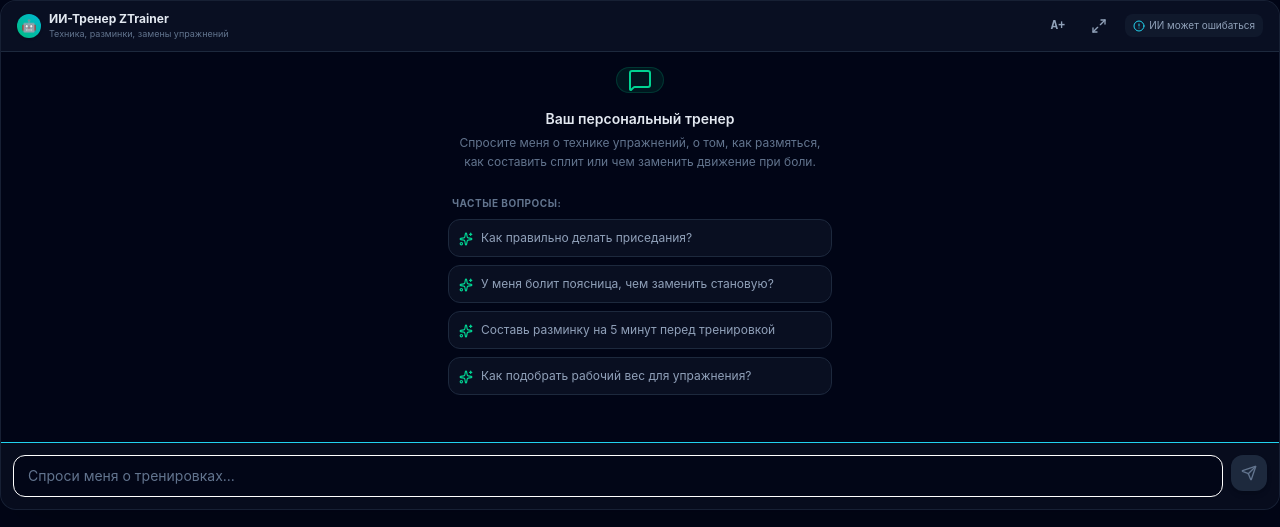
Test: CoachChat Component › shows typing loader while response is loading
This screenshot has width=1280, height=527.
(page scrolled)
Type "Тест загрузки" into the field with placeholder "Спроси меня о тренировках..." at (618, 476), box x1=13 y1=455 x2=1223 y2=497
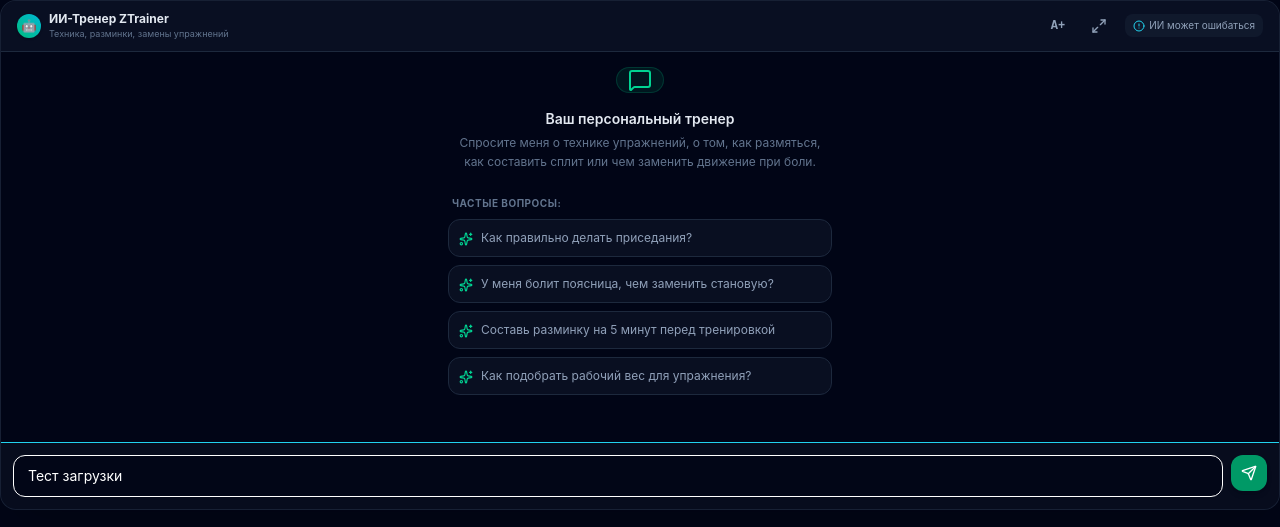
Submit the form with placeholder "Спроси меня о тренировках...", box x1=1 y1=442 x2=1279 y2=509
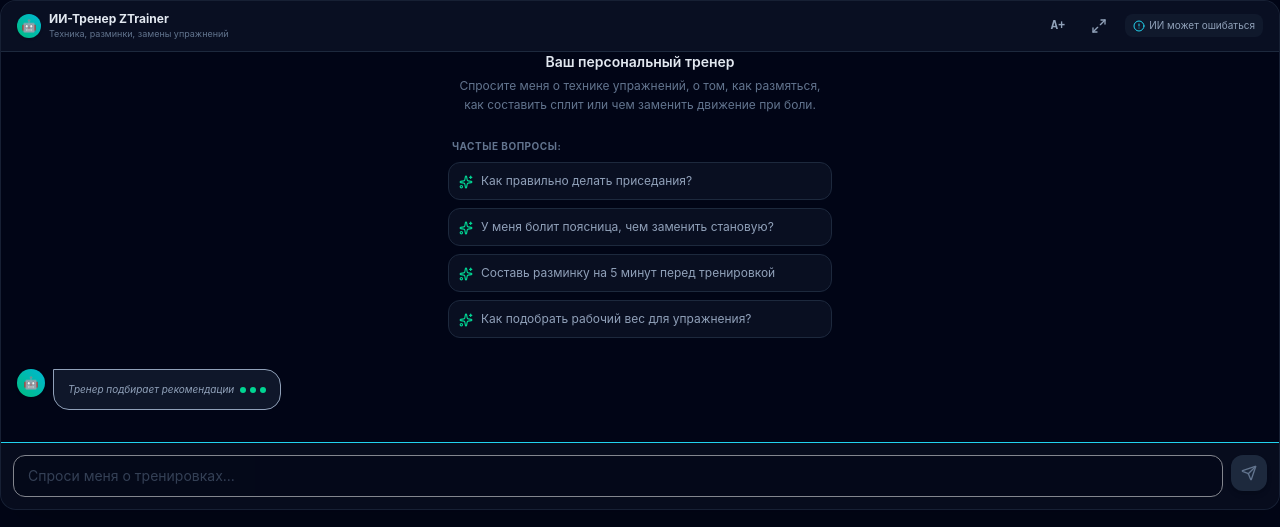
Check: the text "Тренер подбирает рекомендации" is shown, box x1=68 y1=382 x2=234 y2=397
